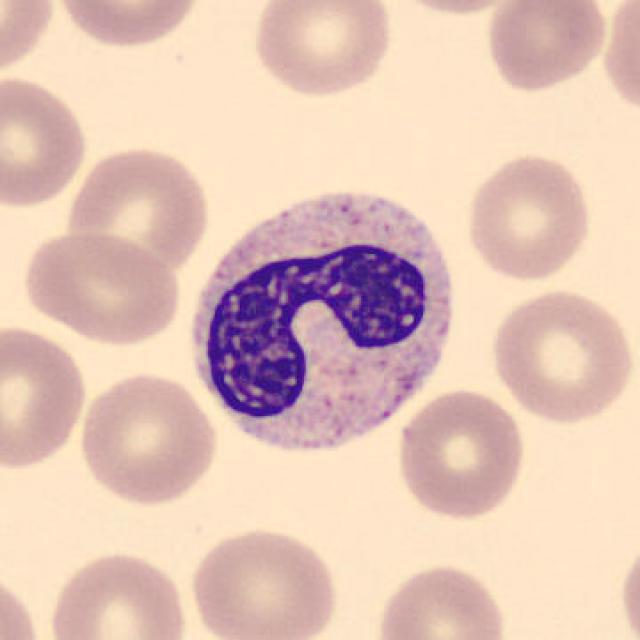Neutrophil: (178, 177, 464, 472)
RBC: (486, 286, 636, 426), (74, 366, 220, 509), (62, 141, 215, 277), (18, 228, 186, 349), (391, 384, 530, 522), (185, 522, 343, 640), (460, 148, 596, 284), (247, 0, 396, 100), (42, 546, 192, 640), (0, 321, 91, 474), (0, 70, 92, 209), (482, 0, 612, 95), (372, 559, 512, 640), (50, 0, 206, 51), (599, 0, 640, 123), (0, 0, 59, 81), (0, 567, 46, 640), (377, 0, 531, 18), (615, 530, 640, 640)
